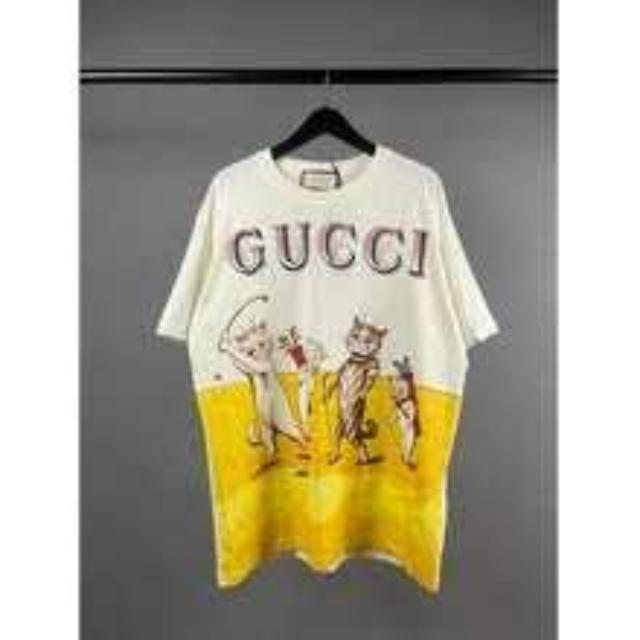Gucci: (227, 214, 437, 280)
